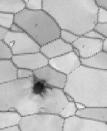good_void: (31, 77, 53, 98), (34, 23, 39, 28)
